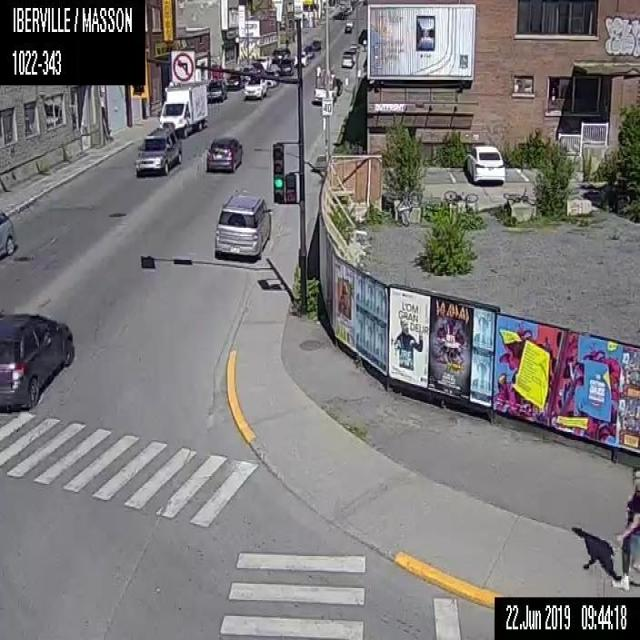pedestrian: (610, 468, 639, 592)
vehicle: (0, 309, 74, 408), (213, 188, 272, 257), (158, 81, 207, 138), (135, 125, 182, 176), (464, 144, 504, 186), (204, 133, 243, 172), (310, 65, 342, 105), (0, 210, 16, 260), (242, 76, 268, 100), (206, 79, 227, 102), (225, 72, 244, 90), (292, 50, 308, 67), (277, 58, 292, 75), (340, 50, 352, 67), (256, 56, 270, 70), (265, 72, 278, 86), (270, 48, 282, 62), (302, 45, 314, 58), (310, 38, 320, 50), (280, 48, 290, 58), (345, 19, 353, 27), (344, 24, 351, 33)
